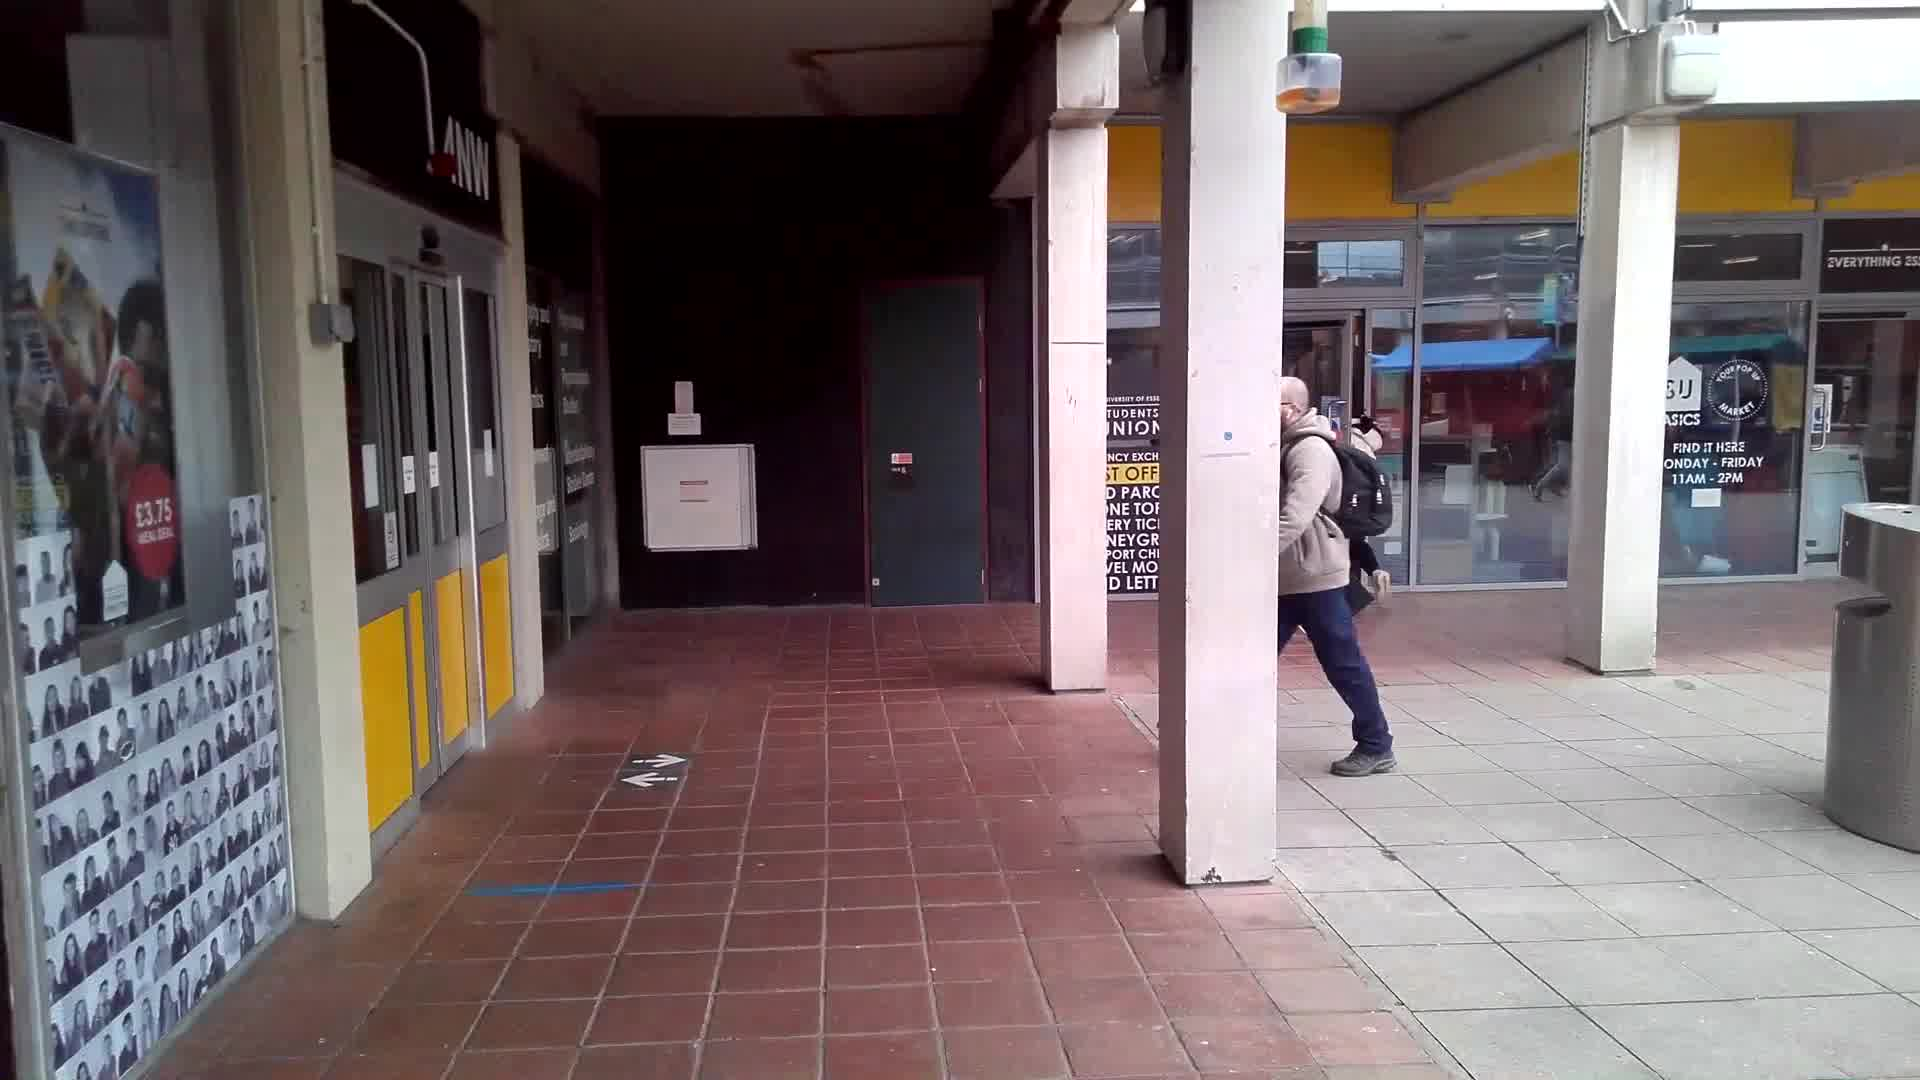Backpack: (1324, 440, 1396, 531)
